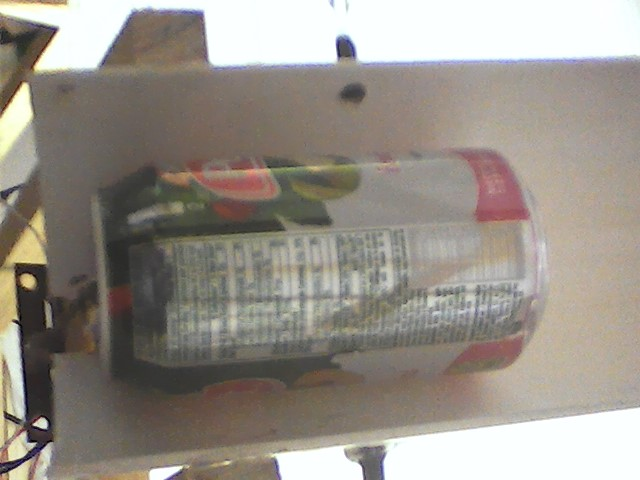lata: (84, 143, 557, 405)
